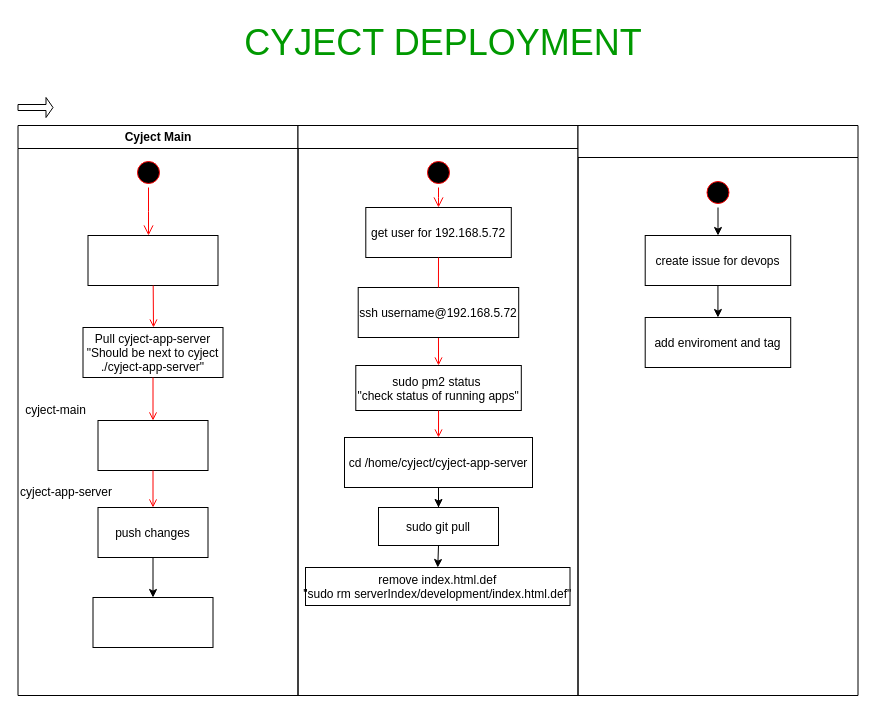
This 875x713 diagram has some shape labels left out. The box of each missing label's shape, as (x1, y1, x2, y2) in pixels:
Add Tag from master: (92, 596, 213, 648)
DEV -- 192.168.5.72: (297, 124, 578, 696)
TEST -- 192.168.4.111 PROD -- 192.168.15.83: (577, 124, 858, 696)
Update Cyject Version: (87, 234, 218, 286)
use build script "npm run build:all": (97, 420, 208, 470)
